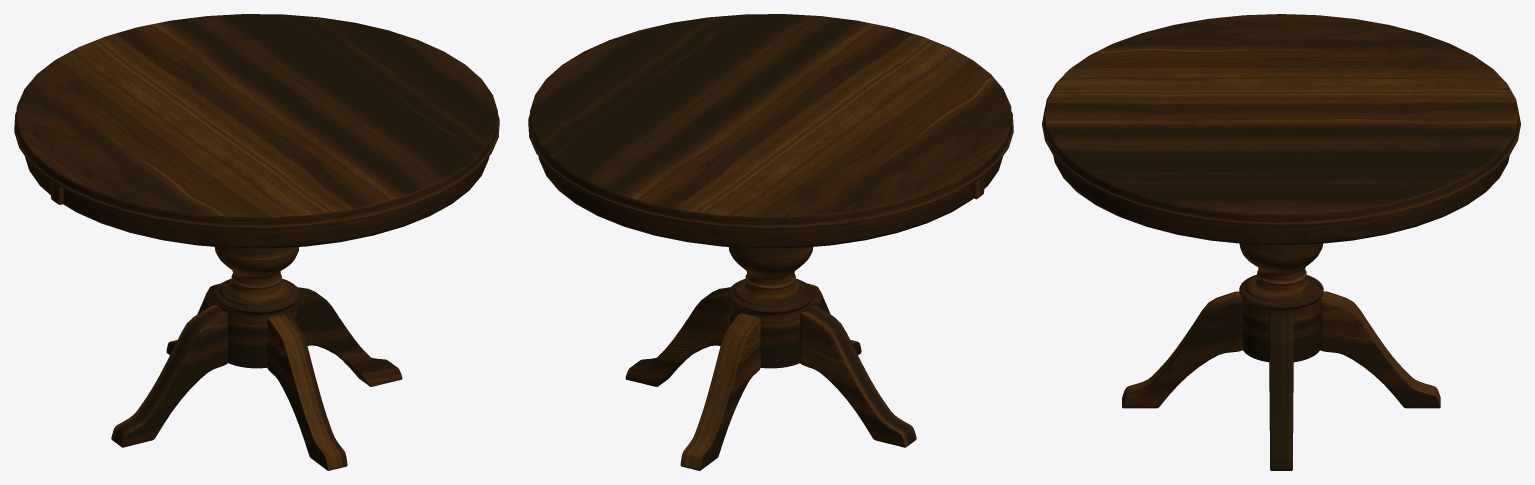
File: kitchen-table.gltf
The picture shows the model from 3 angles, left to right: view 1: azimuth 30°, elevation 25°; view 2: azimuth 150°, elevation 25°; view 3: azimuth 270°, elevation 25°; orthographic projection.
Visible parts, largest first — view 1: b_round_kitchen_table_165; view 2: b_round_kitchen_table_165; view 3: b_round_kitchen_table_165.
Part boxes in pixels (x1=…): b_round_kitchen_table_165: x1=14, y1=14, x2=499, y2=470; b_round_kitchen_table_165: x1=528, y1=14, x2=1013, y2=470; b_round_kitchen_table_165: x1=1042, y1=14, x2=1520, y2=470.
Size of the model in its own units: 1.49 by 0.9941 by 1.49.
Materials: 1 (1 with a texture image).
